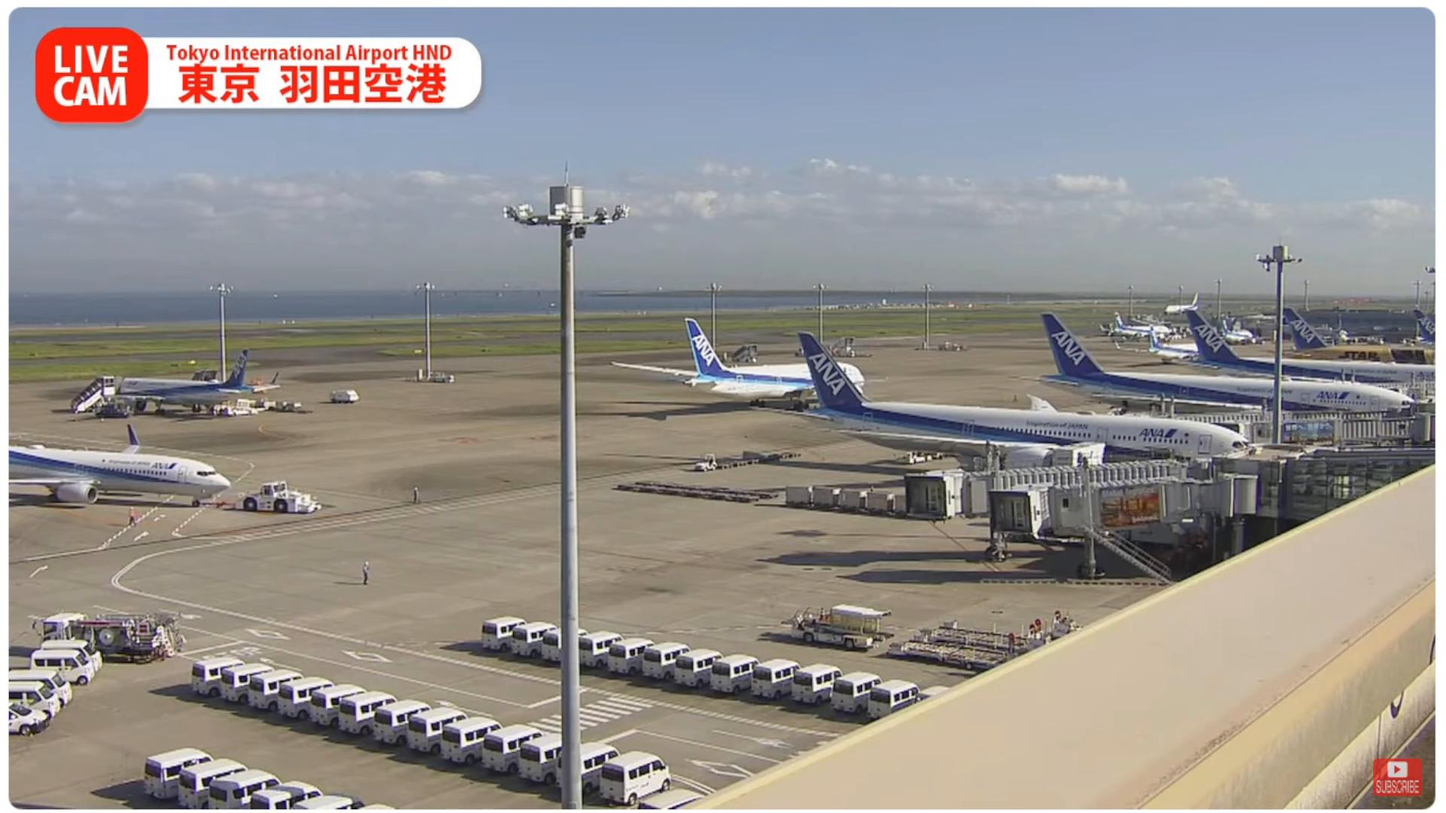APS: (241, 481, 322, 518)
Aerobridge: (904, 443, 1220, 528), (991, 451, 1256, 537)
Airplane: (9, 424, 230, 507)
JCPL: (918, 616, 1075, 656), (890, 639, 1018, 670)
Skyloader: (789, 603, 894, 653)
Window: (1290, 445, 1435, 519)
